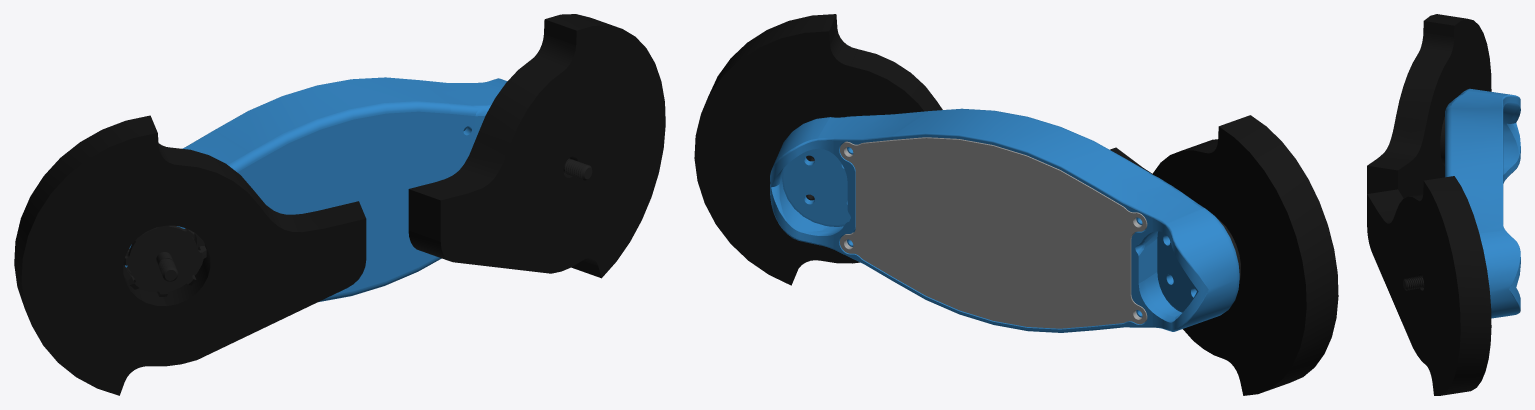
The model's file is torque-walker.glb.
3 renders of one model, left to right at view 1: azimuth 30°, elevation 25°; view 2: azimuth 150°, elevation 25°; view 3: azimuth 270°, elevation 25°, orthographic. The views are drawn at different scales.
Bounding box in the file's own units: 230 × 88.69 × 60.79.
